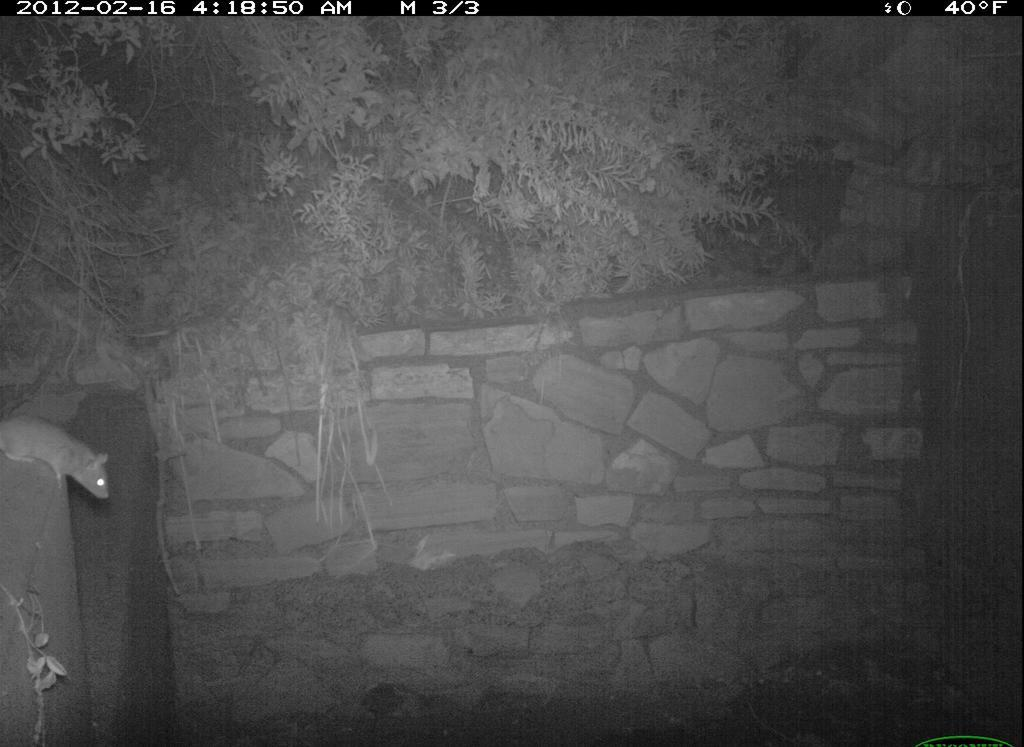rodent: (2, 400, 125, 524)
